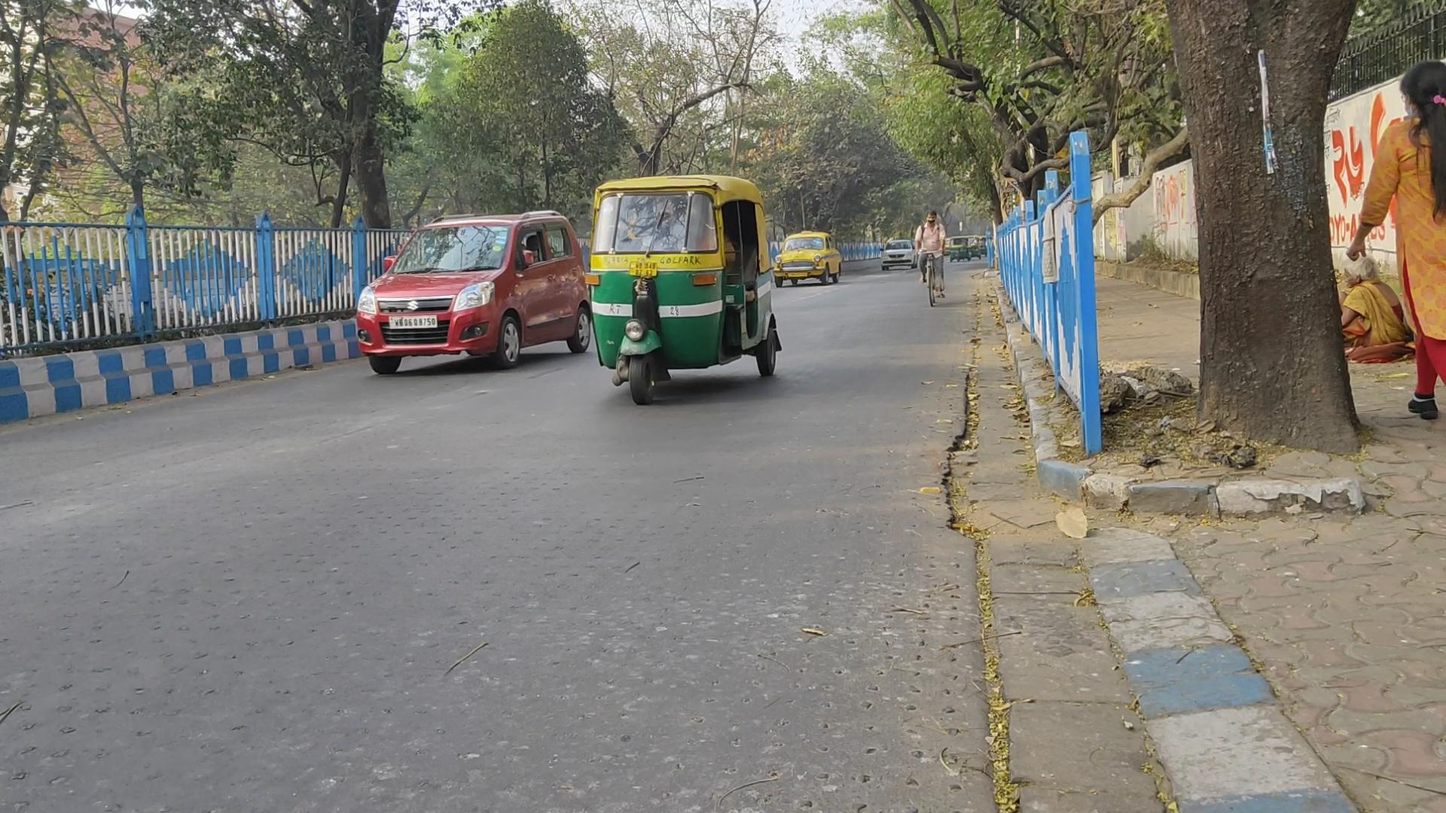Auto: (587, 172, 781, 406), (949, 235, 970, 263)
bike: (918, 207, 947, 309)
car: (356, 206, 591, 374), (775, 227, 842, 291), (880, 239, 914, 272)
